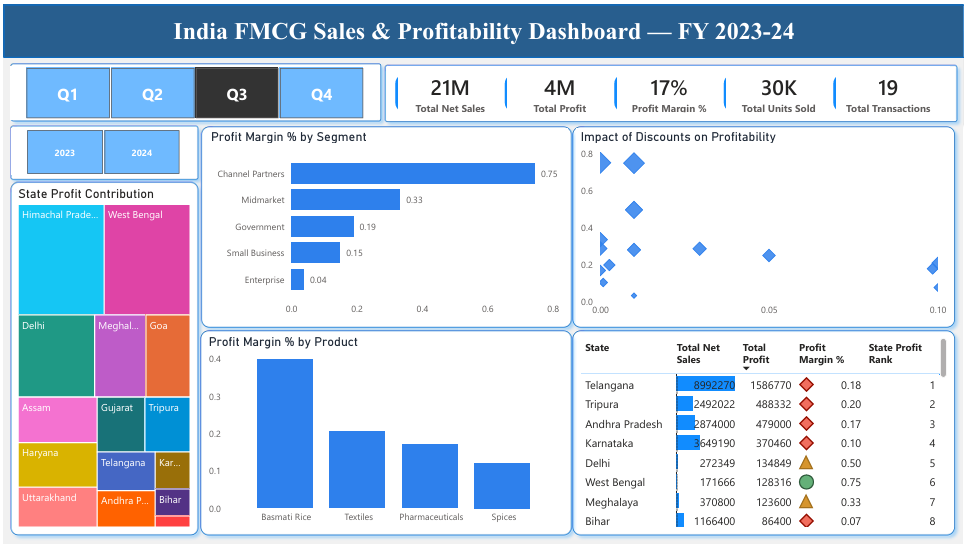

The page's visual inventory and layout, read from the dashboard file:
{"tool":"powerbi","page":{"name":"Executive Summary ","canvas":[1280,720],"ordinal":0},"visuals":[{"type":"shape","box":[499,70.9,781.2,94.5],"z":0},{"type":"shape","box":[0,151.5,268.3,90.3],"z":1000},{"type":"shape","box":[0,226.6,268.3,489.3],"z":2000},{"type":"shape","box":[0,69.5,511.5,94.5],"z":3000},{"type":"shape","box":[749.2,425.3,528.2,290.5],"z":4000},{"type":"shape","box":[749.2,152.9,528.2,286.3],"z":5000},{"type":"shape","box":[254.4,152.9,511.5,286.3],"z":6000},{"type":"shape","title":"India FMCG Sales Dashboard — FY 2023-24","box":[0,0,1280.2,70],"z":7000},{"type":"textbox","box":[0,11.1,1280.2,58.4],"z":8000},{"type":"cardVisual","fields":{"Data":["FactSales.Total Net Sales","FactSales.Total Profit","FactSales.Profit Margin % D","FactSales.Total Units Sold","FactSales.Total Transactions"]},"box":[511.5,82,750.6,70.9],"z":9000},{"type":"slicer","fields":{"Values":["DateTable.Year"]},"box":[9.7,165.4,243.2,61.2],"z":10000},{"type":"slicer","fields":{"Values":["DateTable.Quarter"]},"box":[9,82,489,70.9],"z":11000},{"type":"tableEx","title":"dfv","fields":{"Values":["FactSales.State","FactSales.Total Net Sales","FactSales.Total Profit","FactSales.Profit Margin %","FactSales.State Profit Rank"]},"box":[764.5,439.2,497.6,261.3],"z":12000},{"type":"clusteredBarChart","fields":{"Category":["FactSales.Segment"],"Y":["FactSales.Profit Margin %"]},"box":[271,165.4,480.9,258.5],"z":13000},{"type":"shape","box":[253,425.3,512.9,290.5],"z":14000},{"type":"clusteredColumnChart","fields":{"Category":["FactSales.Product"],"Y":["FactSales.Profit Margin %"]},"box":[268.3,439.2,480.9,261.3],"z":15000},{"type":"treemap","title":"State Profit Contribution","fields":{"Values":["FactSales.Profit Margin %"],"Group":["FactSales.State"]},"box":[13.9,241.9,239.1,458.7],"z":16000},{"type":"scatterChart","title":"Impact of Discounts on Profitability","fields":{"X":["FactSales.Discount Rate %"],"Y":["FactSales.Profit Margin %"],"Category":["FactSales.State"],"Size":["FactSales.Profit Margin %"]},"box":[764.5,165.4,497.6,259.9],"z":17000}]}

Visuals, with their boxes in screenshot pixels (x1, y1, x2, y2), scaled from the page's 1280x720 canvas onto the 969x545 screenshot:
shape: select_region(378, 54, 968, 125)
shape: select_region(0, 115, 203, 183)
shape: select_region(0, 172, 203, 542)
shape: select_region(0, 53, 387, 124)
shape: select_region(567, 322, 967, 542)
shape: select_region(567, 116, 967, 332)
shape: select_region(193, 116, 580, 332)
"India FMCG Sales Dashboard — FY 2023-24" shape: select_region(0, 0, 968, 53)
textbox: select_region(0, 8, 968, 53)
cardVisual - FactSales.Total Net Sales x FactSales.Total Profit: select_region(387, 62, 955, 116)
slicer - DateTable.Year: select_region(7, 125, 191, 172)
slicer - DateTable.Quarter: select_region(7, 62, 377, 116)
"dfv" tableEx: select_region(579, 332, 955, 530)
clusteredBarChart - FactSales.Segment x FactSales.Profit Margin %: select_region(205, 125, 569, 321)
shape: select_region(192, 322, 580, 542)
clusteredColumnChart - FactSales.Product x FactSales.Profit Margin %: select_region(203, 332, 567, 530)
"State Profit Contribution" treemap: select_region(11, 183, 192, 530)
"Impact of Discounts on Profitability" scatterChart: select_region(579, 125, 955, 322)
